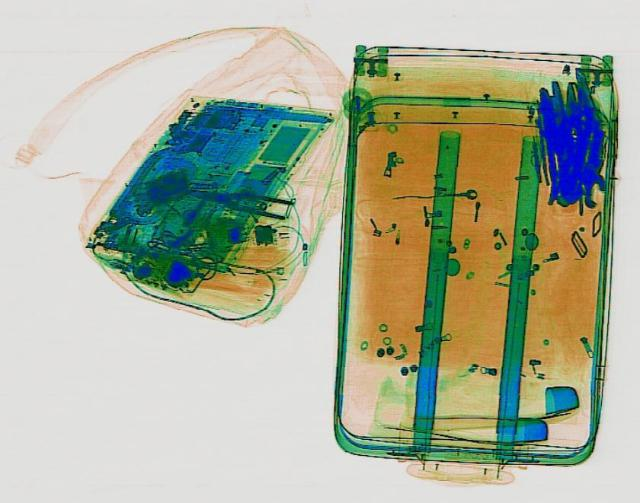Pliers: (180, 177, 292, 220)
